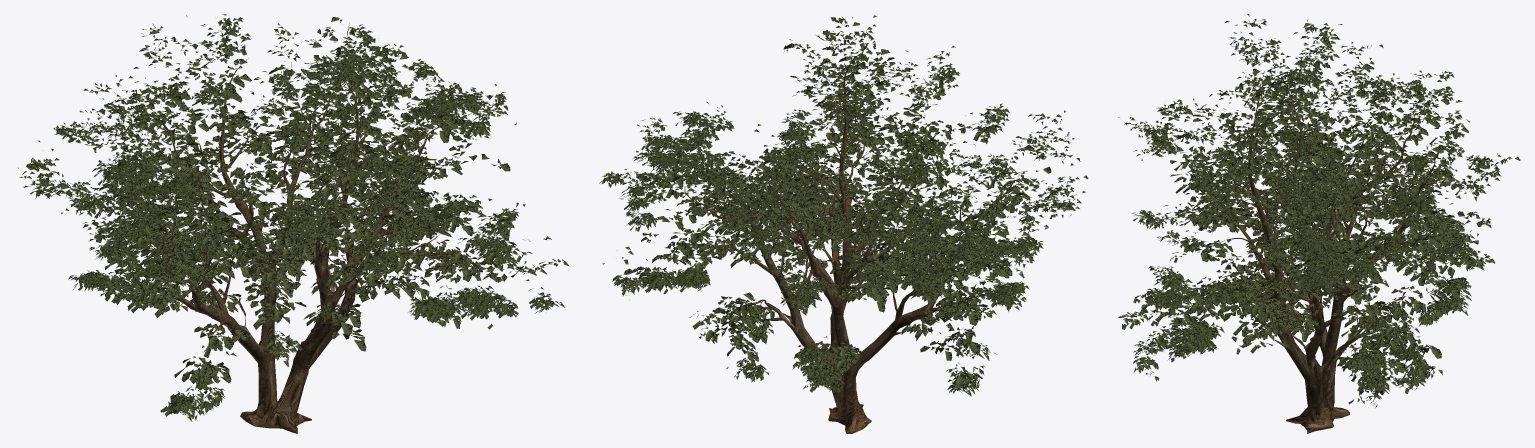
The model's file is jacaranda-game.glb.
3 renders of one model, left to right at view 1: azimuth 30°, elevation 25°; view 2: azimuth 150°, elevation 25°; view 3: azimuth 270°, elevation 25°, orthographic. The views are drawn at different scales.
Visible parts, largest first — view 1: jacaranda_tree_LOD0; view 2: jacaranda_tree_LOD0; view 3: jacaranda_tree_LOD0.
Part boxes in pixels (x1,y1,x2,y2): jacaranda_tree_LOD0: (18,14,569,433); jacaranda_tree_LOD0: (599,15,1088,433); jacaranda_tree_LOD0: (1118,14,1520,433).
Bounding box in the file's own units: 24.16 × 19.3 × 19.05.
3 materials, 3 textured.
